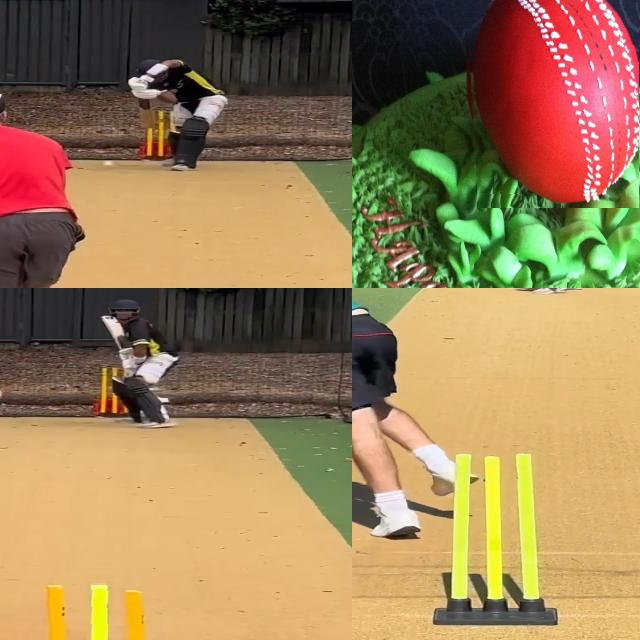Cricket ball: (464, 0, 638, 207), (103, 161, 115, 168)
Stumps: (23, 580, 162, 640)
